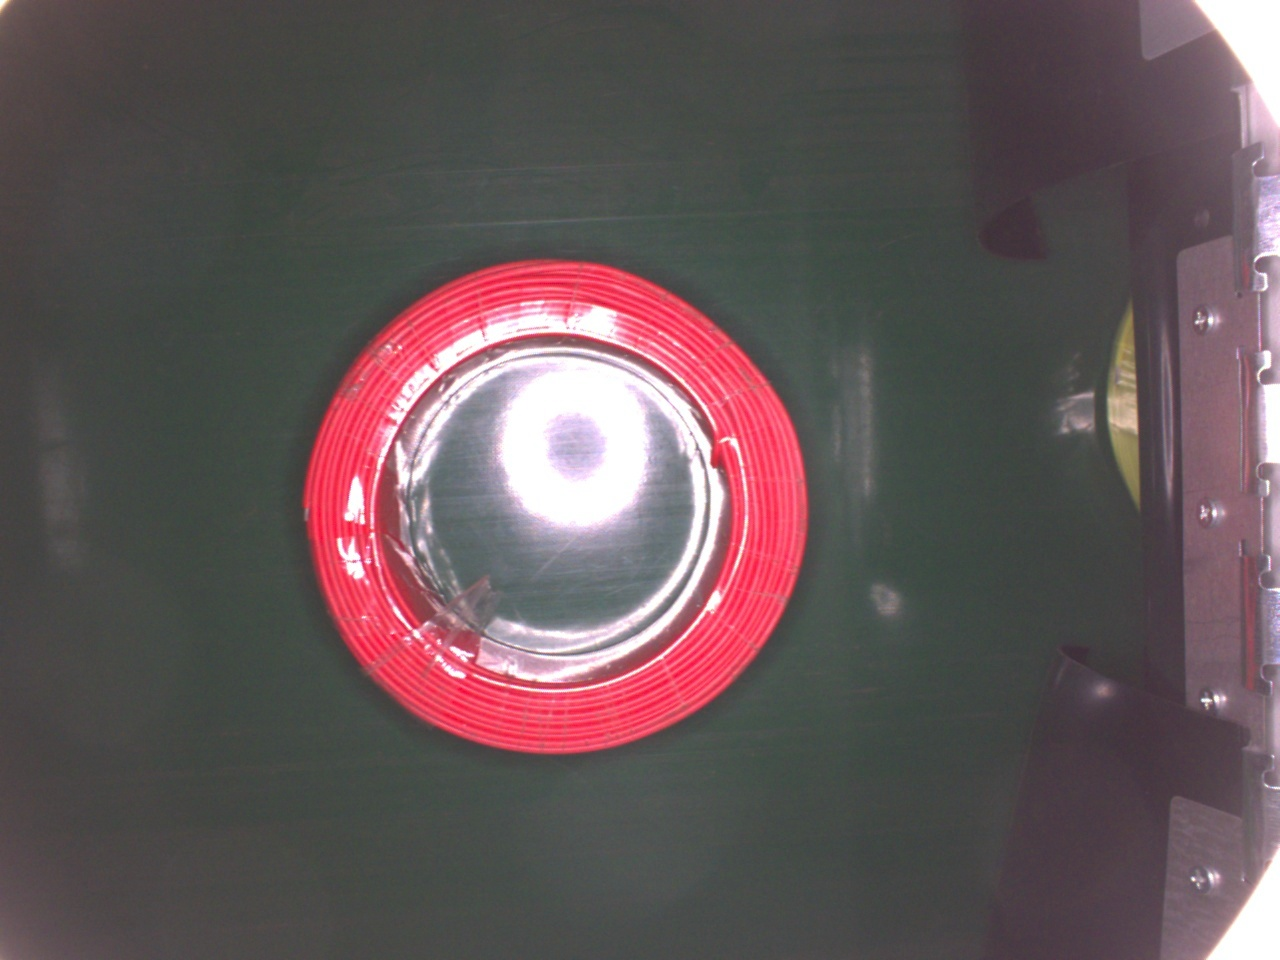red: (297, 250, 827, 758)
